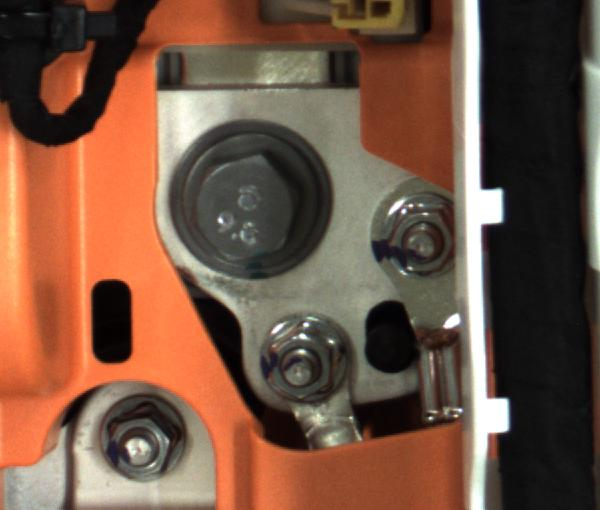nut_b: (162, 125, 326, 273)
screw_s: (242, 312, 358, 403), (94, 395, 193, 472), (372, 197, 453, 283)
